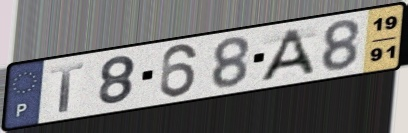6: (157, 42, 199, 100)
8: (209, 36, 252, 91), (320, 18, 362, 74), (97, 54, 138, 106)
A: (257, 26, 317, 85)
T: (48, 60, 87, 114)
